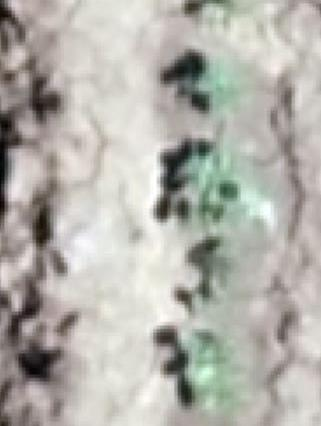cotton: (187, 336, 225, 364), (188, 187, 221, 217), (198, 82, 229, 113), (200, 56, 232, 85), (189, 158, 232, 178), (206, 176, 240, 201), (183, 360, 219, 381), (196, 384, 229, 402), (210, 239, 234, 258)
